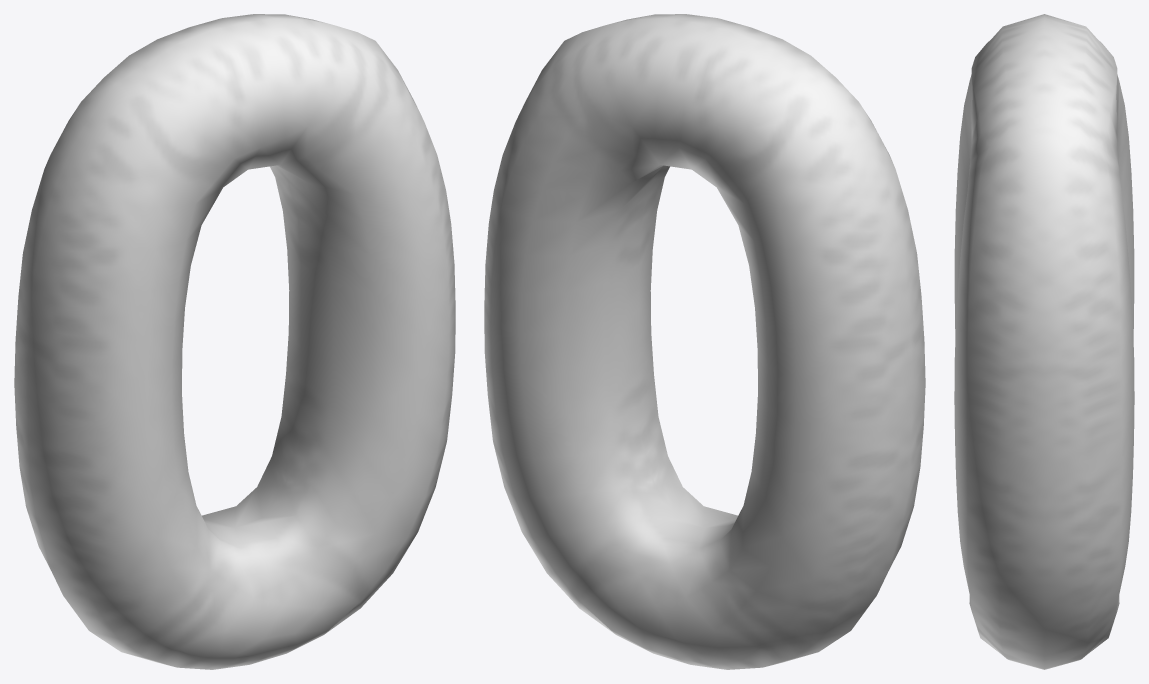
The model's file is LettersBalloon01_0.FBX.
3 views of the same model, side by side, from view 1: azimuth 30°, elevation 25°; view 2: azimuth 150°, elevation 25°; view 3: azimuth 270°, elevation 25° (orthographic). The views are drawn at different scales.
Visible parts, largest first — view 1: LettersBalloon01_0; view 2: LettersBalloon01_0; view 3: LettersBalloon01_0.
Part boxes in pixels (x1,y1,x2,y2): LettersBalloon01_0: [14, 14, 455, 669]; LettersBalloon01_0: [484, 14, 925, 669]; LettersBalloon01_0: [954, 14, 1134, 669].
Size of what is drawn, in the model's own units: 0.3342 by 0.487 by 0.1312.
